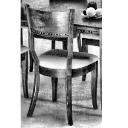chair_success: (22, 2, 99, 127)
